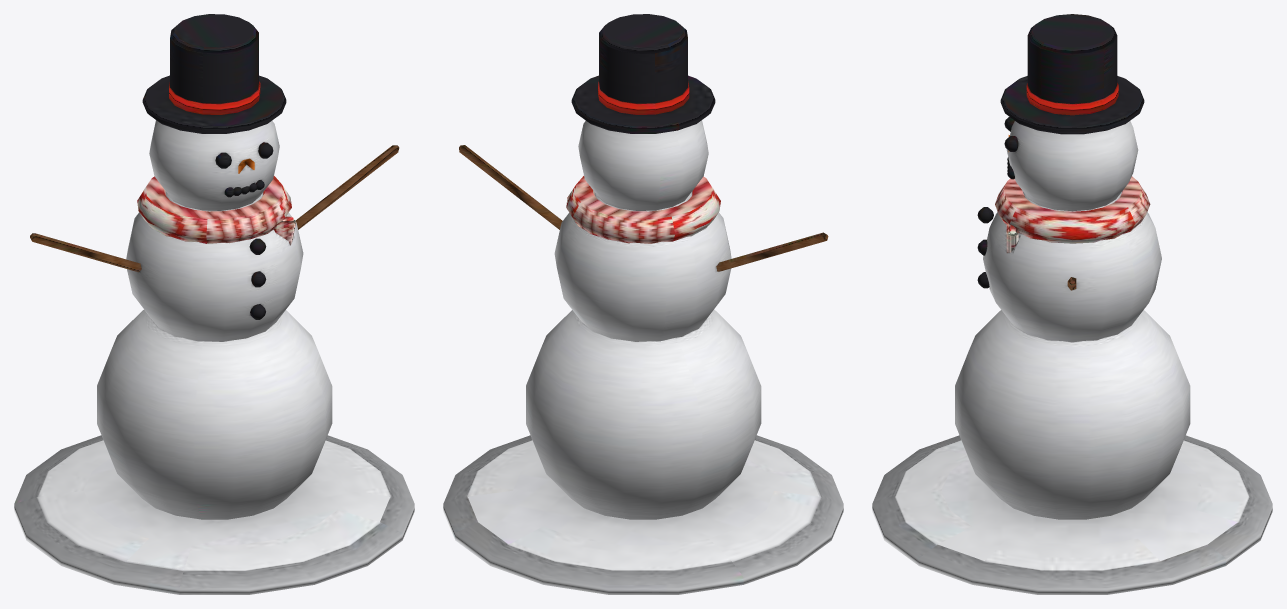
File: snowman.glb
3 renders of one model, left to right at view 1: azimuth 30°, elevation 25°; view 2: azimuth 150°, elevation 25°; view 3: azimuth 270°, elevation 25°, orthographic.
Visible parts, largest first — view 1: snowman; view 2: snowman; view 3: snowman.
Part boxes in pixels (left/top/right/bottom): snowman: left=14, top=14, right=414, bottom=594; snowman: left=443, top=14, right=843, bottom=594; snowman: left=872, top=14, right=1272, bottom=594.
Bounding box in the file's own units: 0.7119 × 0.9208 × 0.6698.
1 material, 1 textured.
